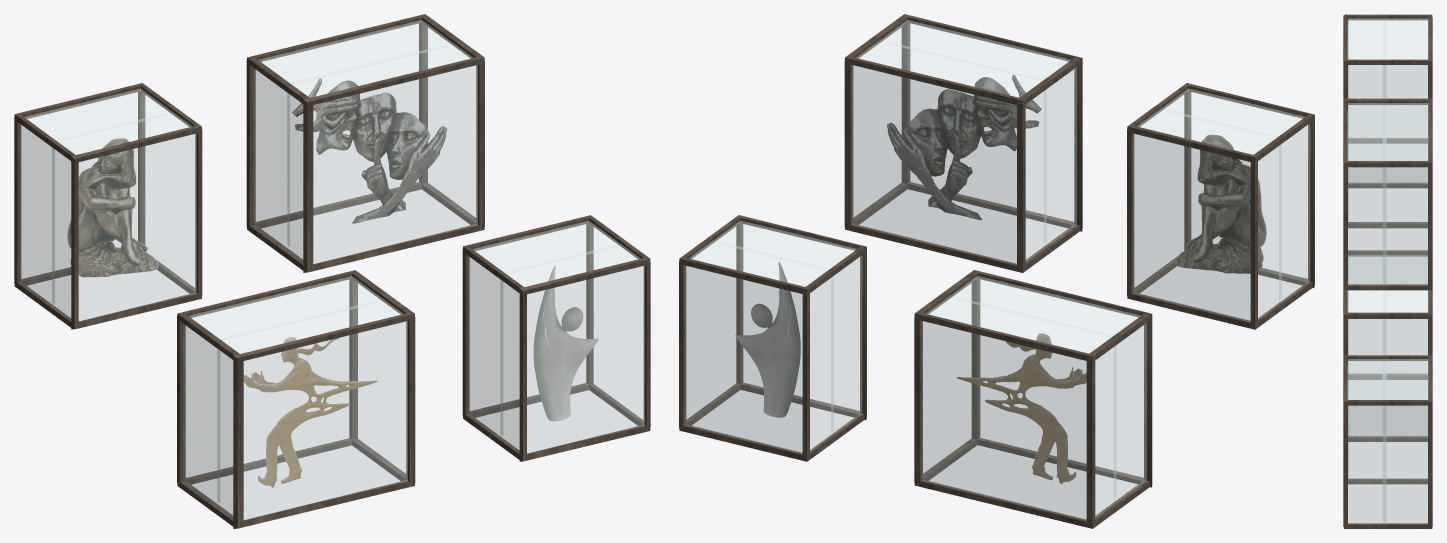
The model's file is opere-v1.glb.
The picture shows the model from 3 angles, left to right: view 1: azimuth 30°, elevation 25°; view 2: azimuth 150°, elevation 25°; view 3: azimuth 270°, elevation 25°; orthographic projection. The views are drawn at different scales.
Visible parts, largest first — view 1: Box156, Shape050, Object367, Object364, Object371, Object369; view 2: Box156, Shape050, Object367, Object364, Object371, Object369; view 3: Box156, Shape050.
Part boxes in pixels (<box>): Box156: <box>19,20,644,520</box>; Shape050: <box>14,14,650,528</box>; Object367: <box>292,78,447,223</box>; Object364: <box>67,138,158,277</box>; Object371: <box>533,265,598,421</box>; Object369: <box>243,337,377,487</box>; Box156: <box>685,20,1309,520</box>; Shape050: <box>679,14,1314,528</box>; Object367: <box>887,75,1041,219</box>; Object364: <box>1175,134,1266,273</box>; Object371: <box>735,262,800,417</box>; Object369: <box>956,333,1086,483</box>; Box156: <box>1347,18,1428,523</box>; Shape050: <box>1343,14,1432,528</box>.
Bounding box in the file's own units: 1.63 × 1.12 × 0.2954.
Materials: 6 (6 with a texture image).
